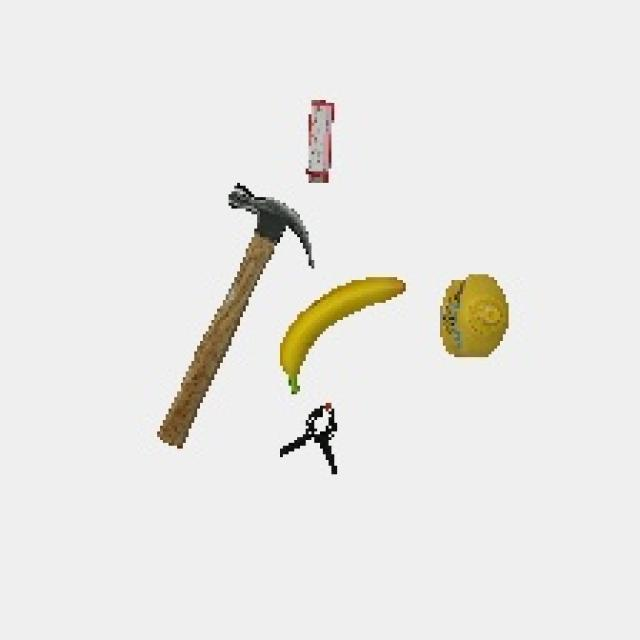Banana: (277, 274, 411, 396)
GelatinBox: (298, 91, 348, 190)
MediumClamp: (275, 399, 351, 478)
MustardBottle: (433, 269, 515, 371)
